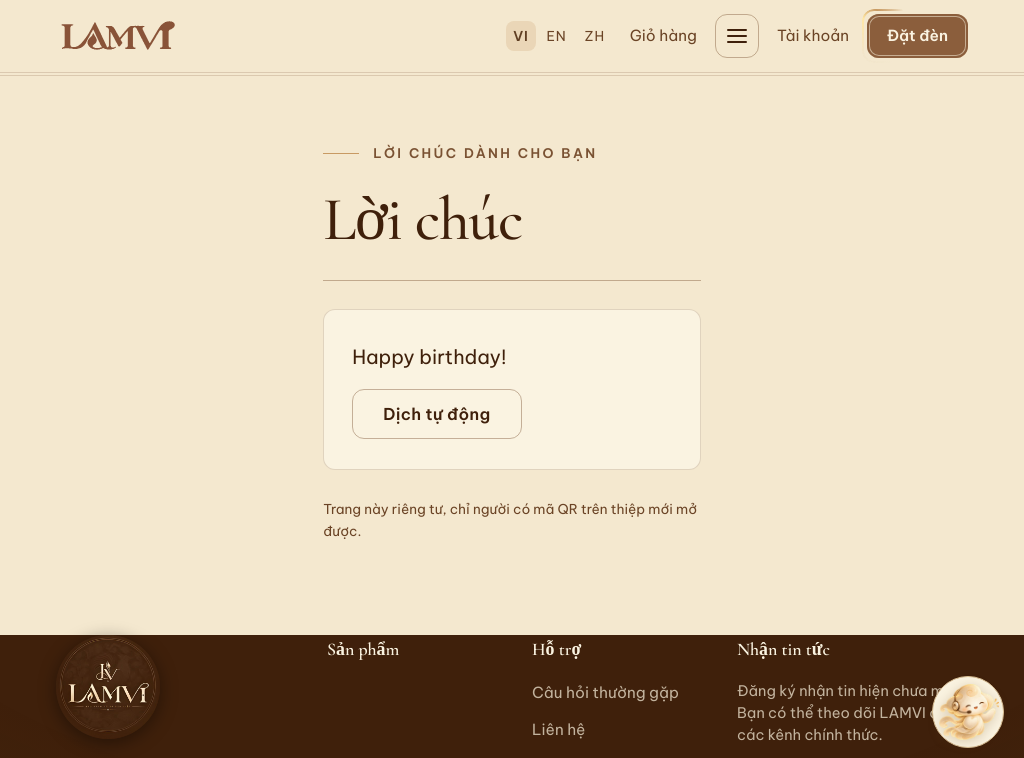
Scenario: Trang QR lời chúc › AC-005: "Dịch tự động" hiện bản dịch dưới bản gốc có nhãn; bấm lại thì ẩn; chỉ hiện khi khác ngôn ngữ
Click the button "Dịch tự động".
click(437, 414)  # box [352, 389, 522, 439]
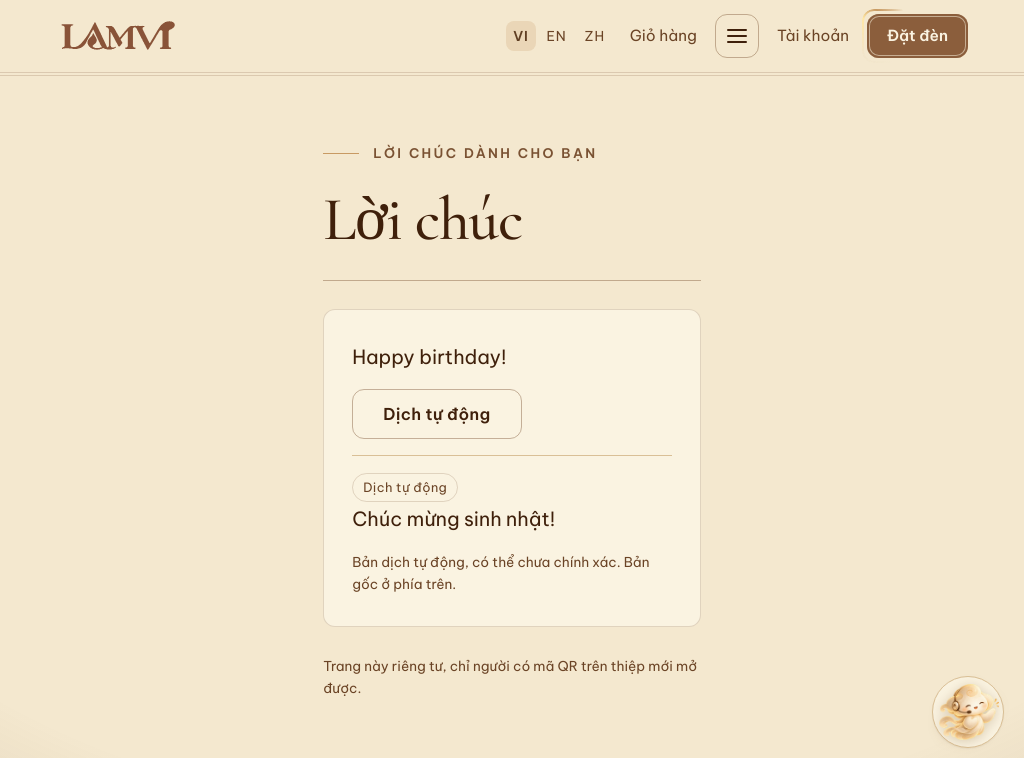
Expected: the text "Happy birthday!" is shown, [352, 344, 506, 368]
Expected: the element "Dịch tự động" shows "Chúc mừng sinh nhật!", [352, 506, 555, 531]
Click the button "Dịch tự động".
click(437, 414)  # box [352, 389, 522, 439]
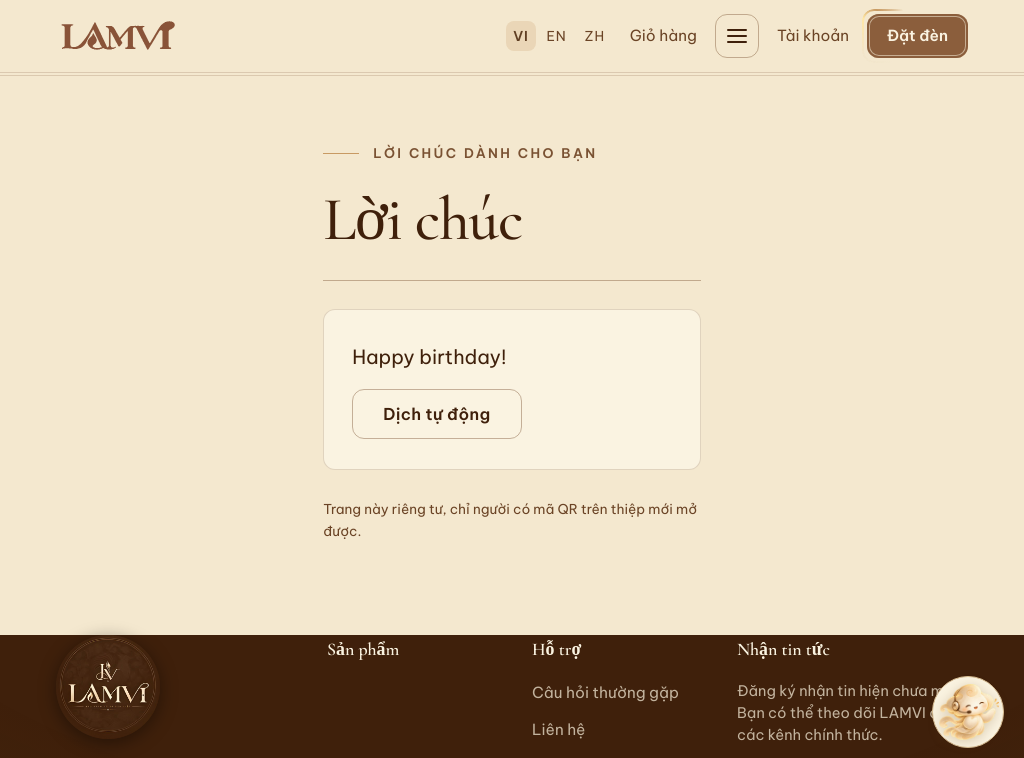
// lần bật lại dùng bản đã có, không gọi API lần hai
Click the button "Dịch tự động".
click(437, 414)  # box [352, 389, 522, 439]
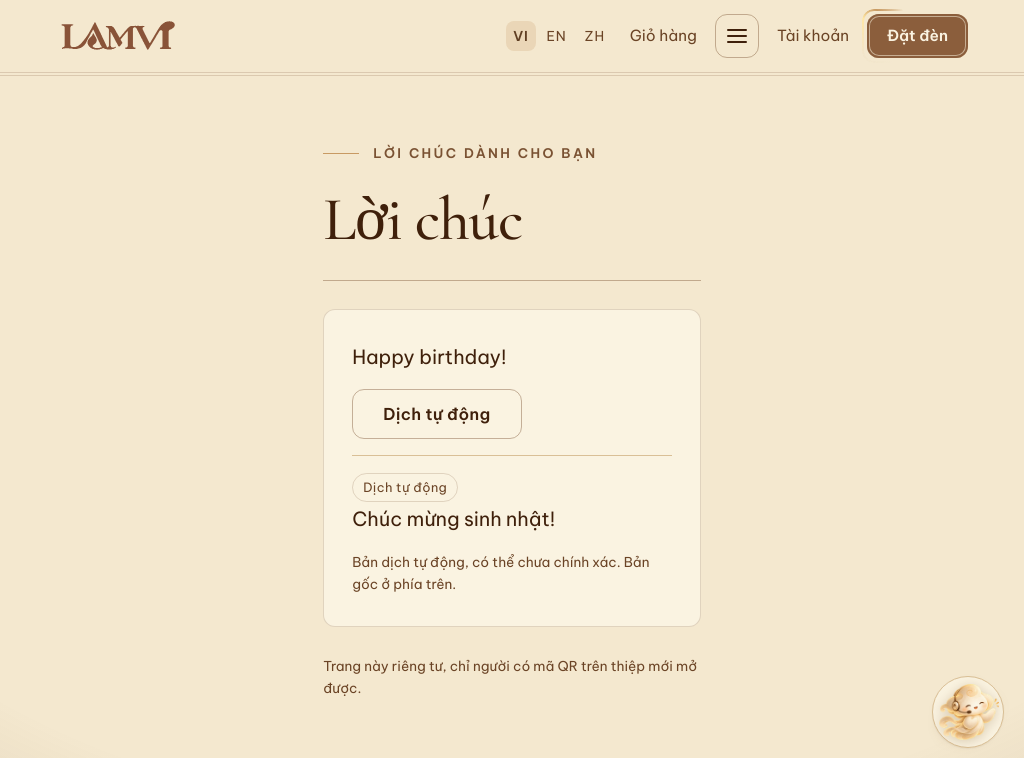
Expected: the element "Dịch tự động" is shown, [352, 455, 672, 596]
